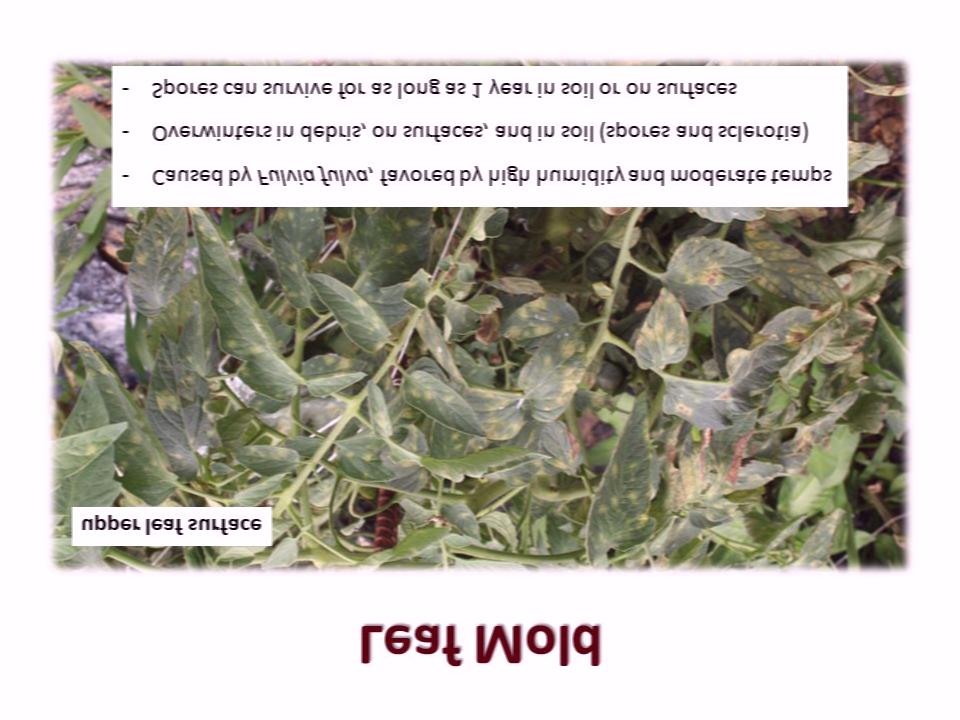Tomato mold leaf: (66, 339, 194, 502), (185, 208, 293, 398), (686, 304, 835, 423), (575, 385, 653, 559), (404, 366, 539, 446), (140, 311, 209, 461), (741, 225, 847, 322), (664, 231, 771, 312), (304, 265, 393, 352), (516, 328, 587, 422), (627, 278, 693, 371), (267, 208, 322, 308), (335, 432, 401, 483), (299, 359, 371, 397), (236, 440, 306, 473), (368, 378, 394, 438)
